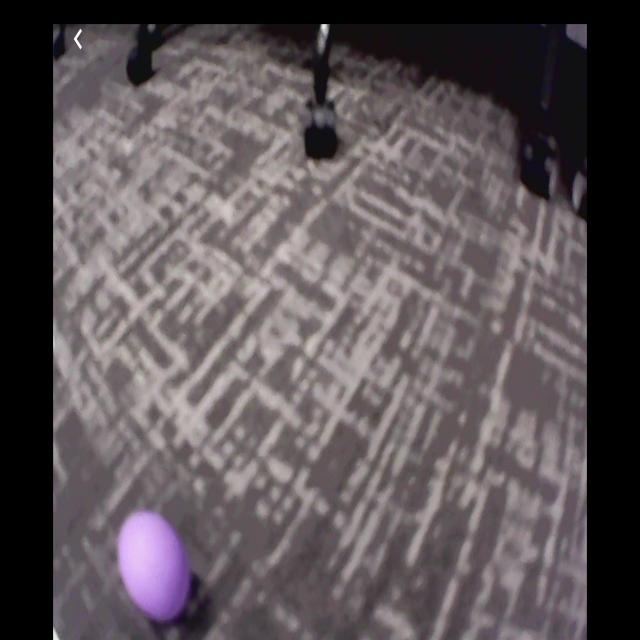ball: (117, 509, 193, 623)
